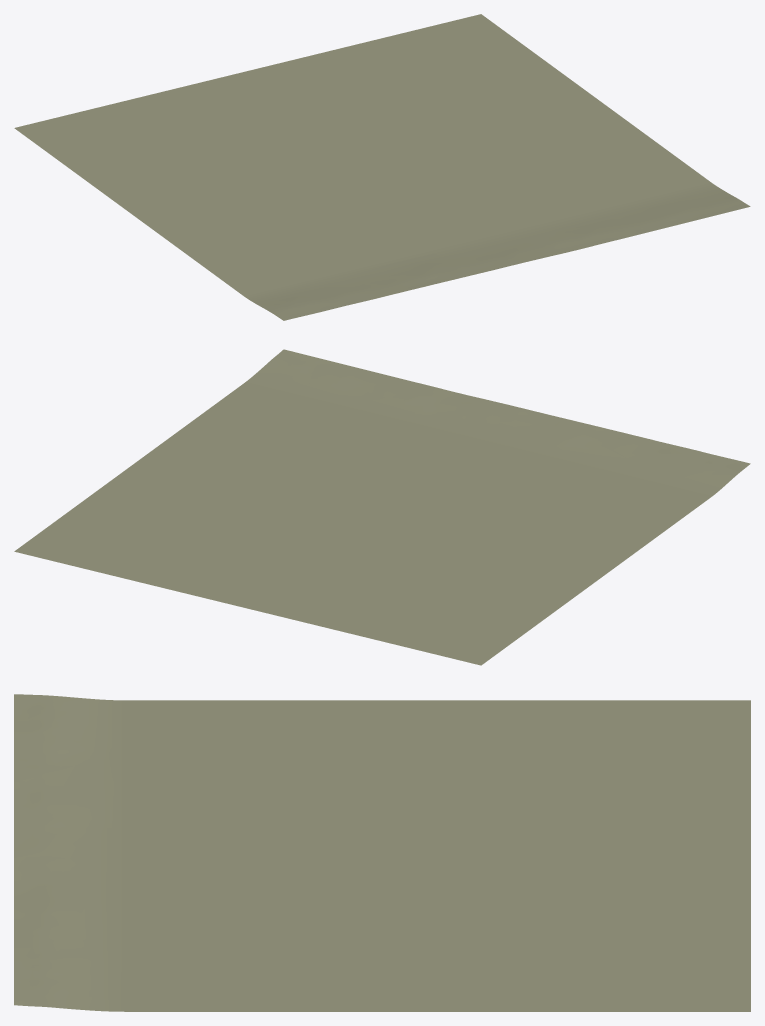
Rendered from SM_VB_CityTerrain_5_5.fbx.
3 views of the same model, one above another, from view 1: azimuth 30°, elevation 25°; view 2: azimuth 150°, elevation 25°; view 3: azimuth 270°, elevation 25° (orthographic). The views are drawn at different scales.
Visible parts, largest first — view 1: SM_VB_CityTerrain_5_5; view 2: SM_VB_CityTerrain_5_5; view 3: SM_VB_CityTerrain_5_5.
Part boxes in pixels (bbox=[...]): SM_VB_CityTerrain_5_5: bbox=[14, 14, 750, 320]; SM_VB_CityTerrain_5_5: bbox=[14, 349, 750, 665]; SM_VB_CityTerrain_5_5: bbox=[14, 694, 750, 1011].
Size of the model in its own units: 600 by 5.93 by 600.
